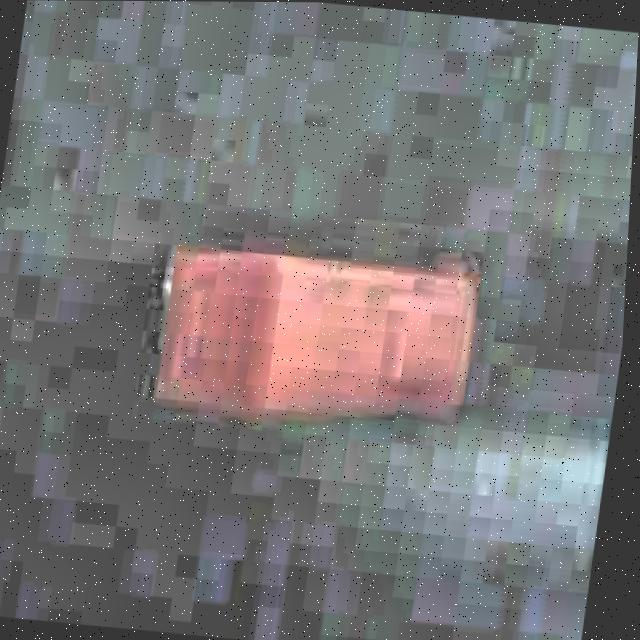bus: (135, 220, 498, 438)
